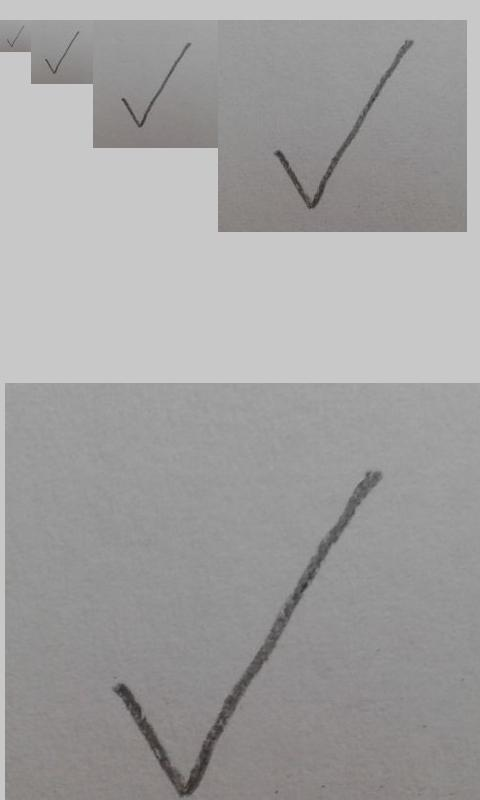check_box: (112, 470, 379, 800), (275, 41, 412, 210), (121, 43, 191, 128), (45, 31, 79, 74), (6, 26, 23, 48)
